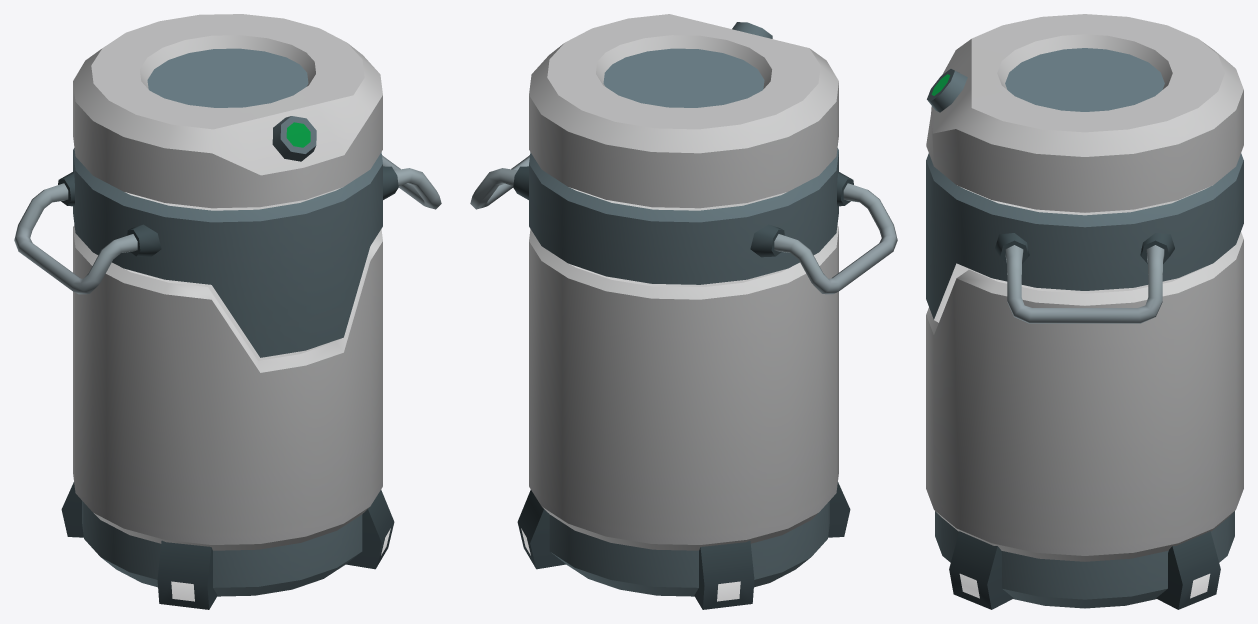
Rendered from Barrel_007.glb.
3 views of the same model, side by side, from view 1: azimuth 30°, elevation 25°; view 2: azimuth 150°, elevation 25°; view 3: azimuth 270°, elevation 25° (orthographic).
Visible parts, largest first — view 1: Barrel_007; view 2: Barrel_007; view 3: Barrel_007.
Part boxes in pixels (x1,y1,x2,y2): Barrel_007: (14, 14, 441, 609); Barrel_007: (470, 14, 897, 609); Barrel_007: (926, 14, 1243, 609).
Size of the model in its own units: 0.8098 by 1.01 by 0.6.
Materials: 2 (2 with a texture image).
